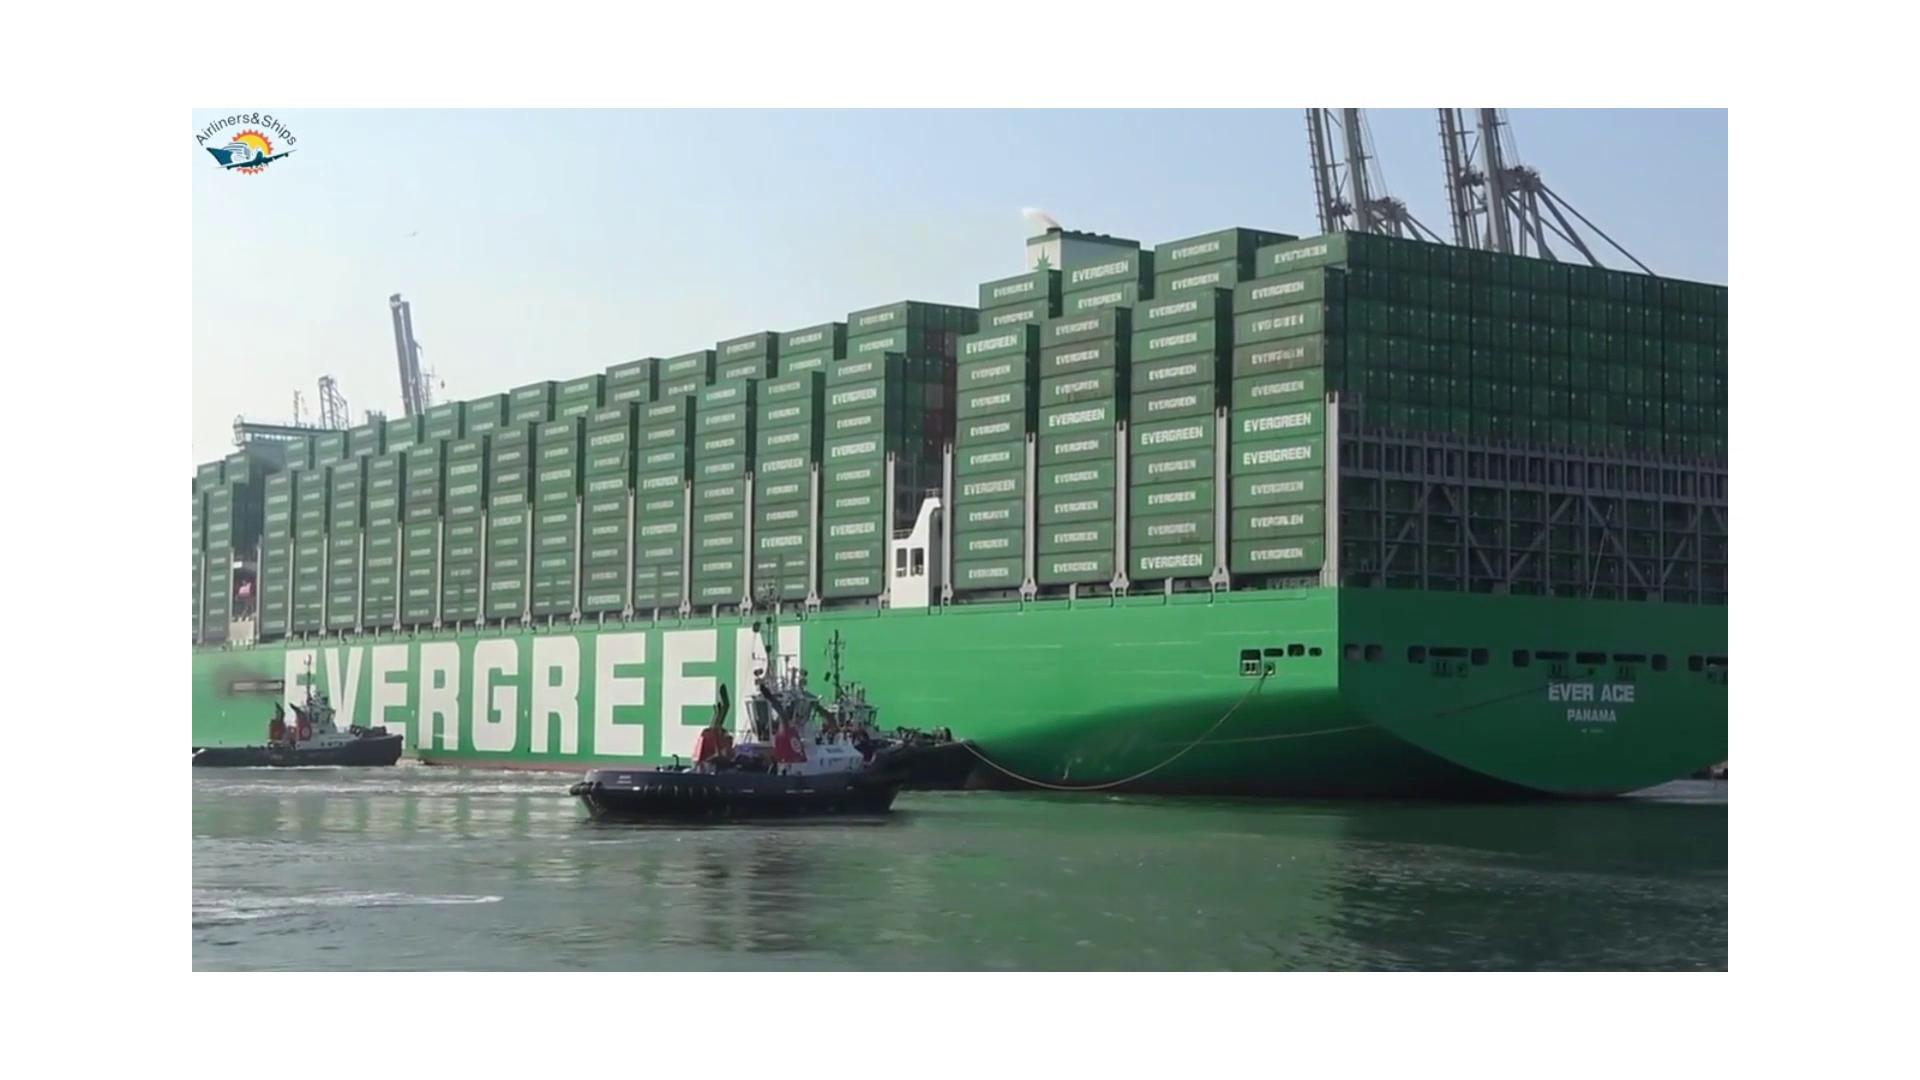OCR: (258, 628, 825, 765), (1523, 670, 1662, 744)
